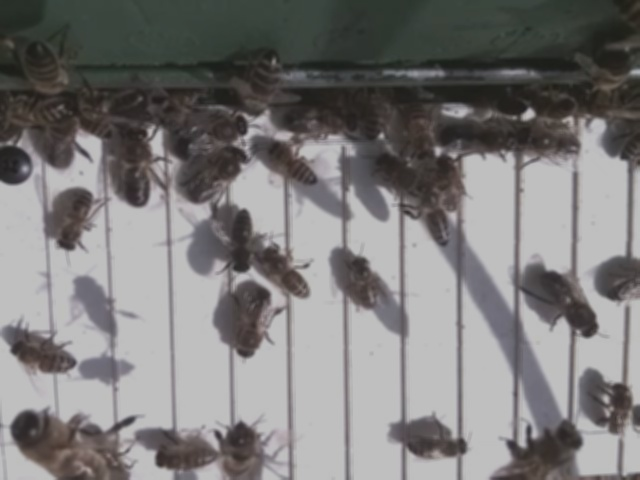Drone: (539, 266, 604, 344), (184, 144, 251, 208), (437, 119, 522, 161), (232, 286, 277, 362), (119, 122, 156, 213)
Worker: (9, 335, 78, 381), (262, 241, 312, 304), (52, 188, 99, 254), (267, 140, 323, 192), (224, 205, 260, 280), (151, 441, 225, 475), (346, 253, 384, 316), (402, 430, 471, 464), (417, 187, 452, 252), (406, 93, 436, 168), (600, 381, 635, 438)
